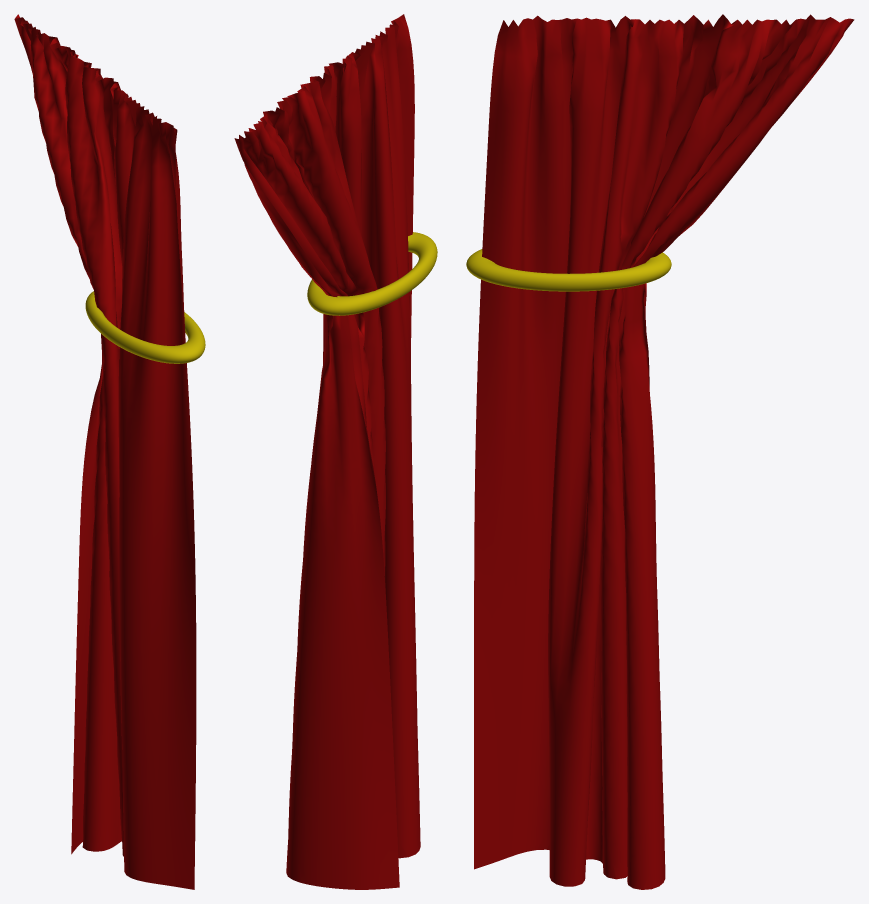
Rendered from side curtain.glb.
3 renders of one model, left to right at view 1: azimuth 30°, elevation 25°; view 2: azimuth 150°, elevation 25°; view 3: azimuth 270°, elevation 25°, orthographic. The views are drawn at different scales.
Parts seen in each view (by area): view 1: Side Curtain, Torus; view 2: Side Curtain, Torus; view 3: Side Curtain, Torus.
Part boxes in pixels (x1,y1,x2,y2): Side Curtain: (14,14,196,889); Torus: (85,291,205,363); Side Curtain: (234,14,420,889); Torus: (307,232,437,315); Side Curtain: (474,14,854,889); Torus: (466,249,671,291).
Bounding box in the file's own units: 1.45 × 11.15 × 4.62.
